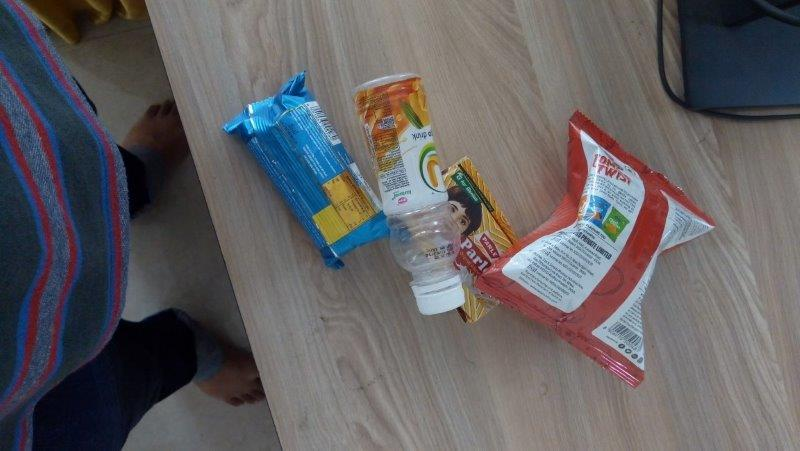goodday: (213, 69, 392, 274)
kurkure: (470, 113, 722, 387)
